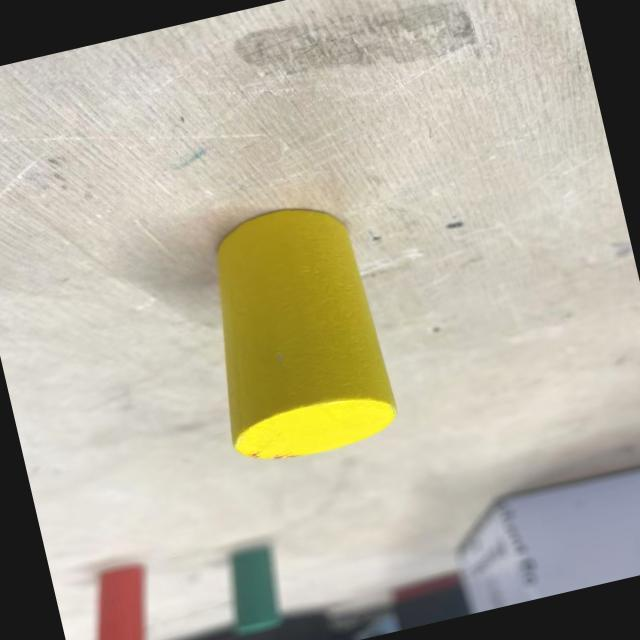yellow_cylinder: (182, 194, 402, 472)
